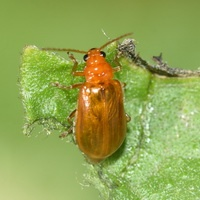insect: (21, 33, 199, 199)
